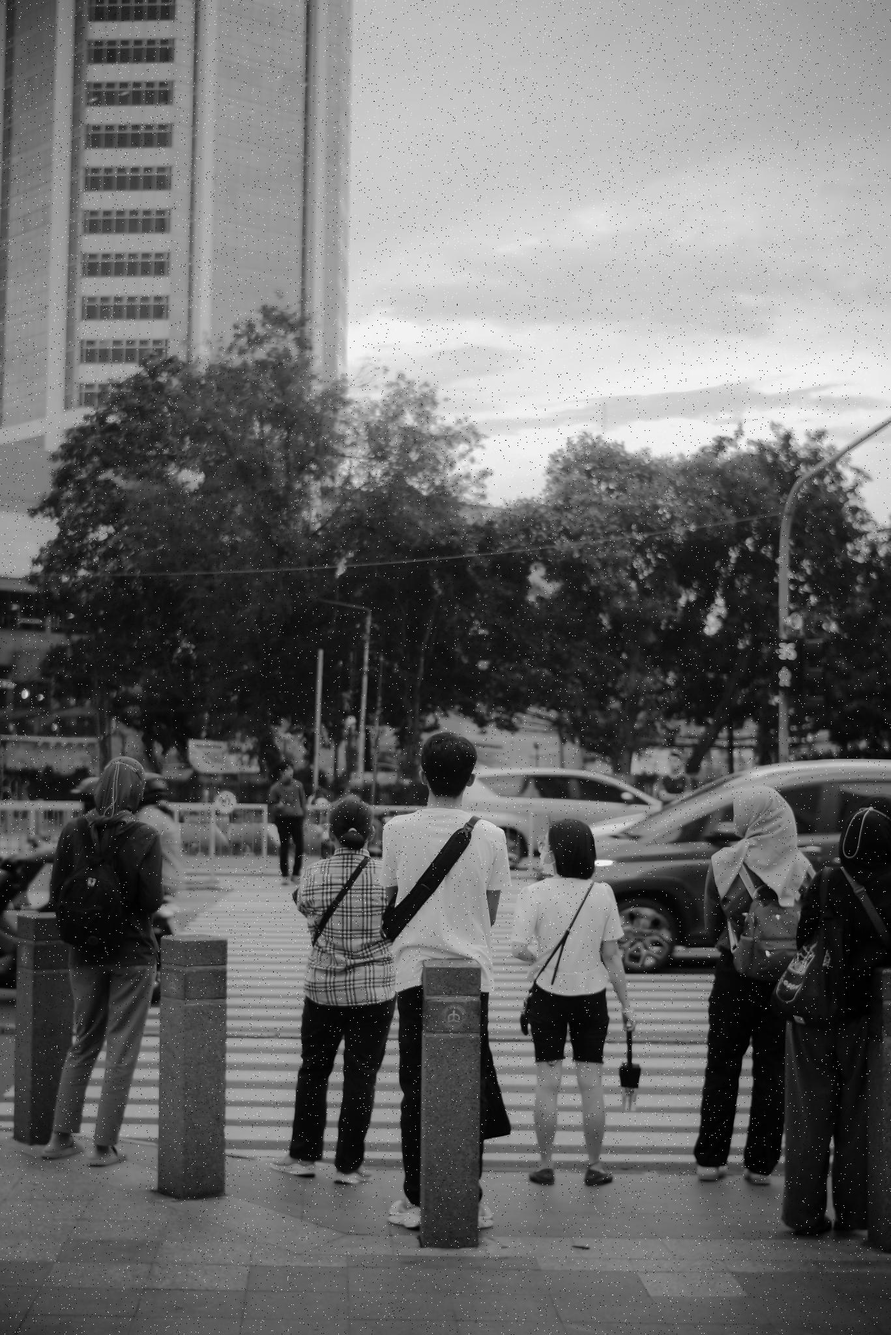car: (599, 765, 891, 981), (471, 758, 661, 867)
pedestrian: (374, 724, 511, 1229), (35, 755, 164, 1164), (771, 803, 889, 1239), (280, 787, 402, 1179), (514, 816, 641, 1188), (697, 778, 813, 1179), (141, 779, 188, 932), (270, 763, 309, 884), (658, 753, 696, 807)
